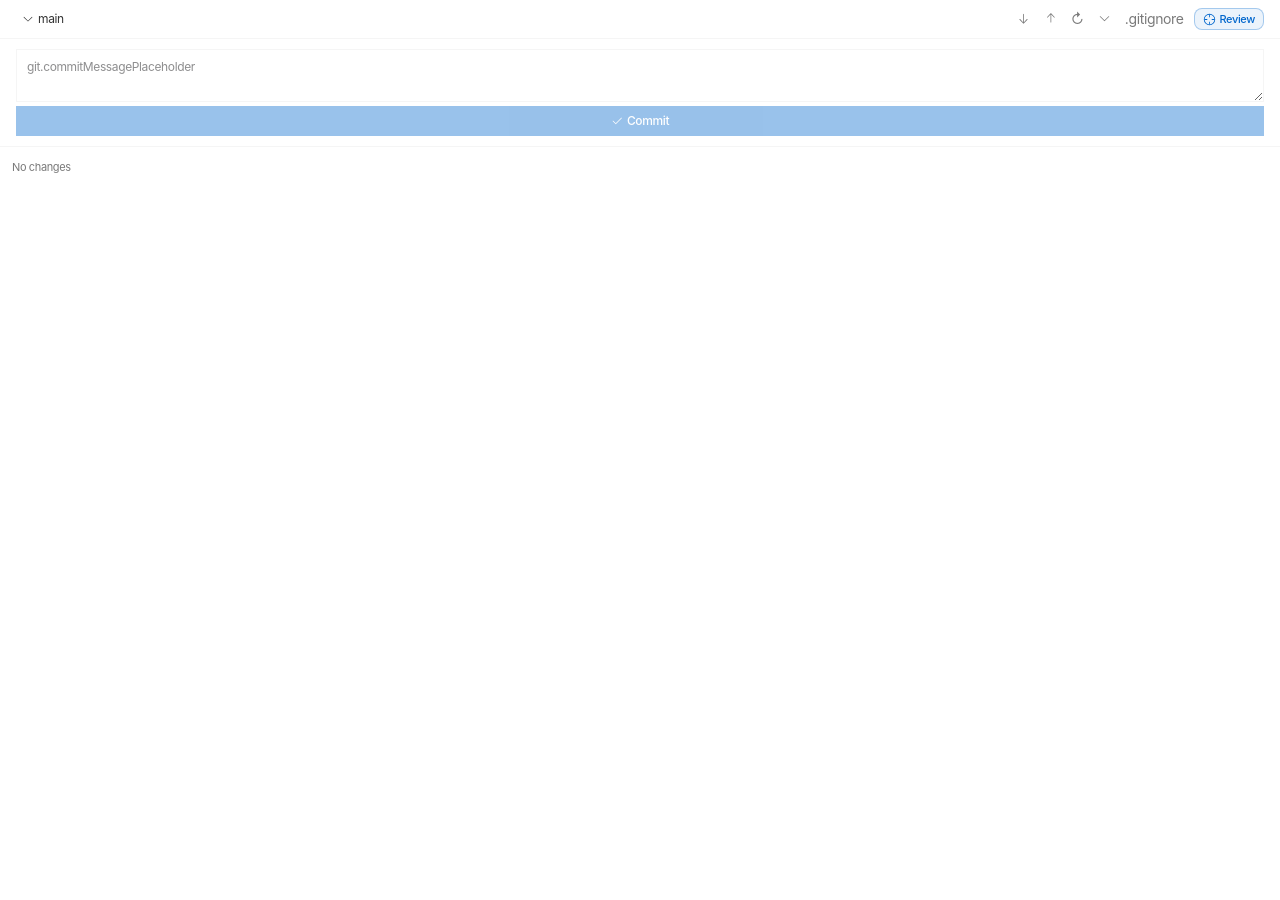
it: GitPanel › 点击审查按钮打开模态框并触发 runReview
Click the button with class "git-panel__review-btn": coordinates (1229, 19) left=1194, top=8, right=1264, bottom=30
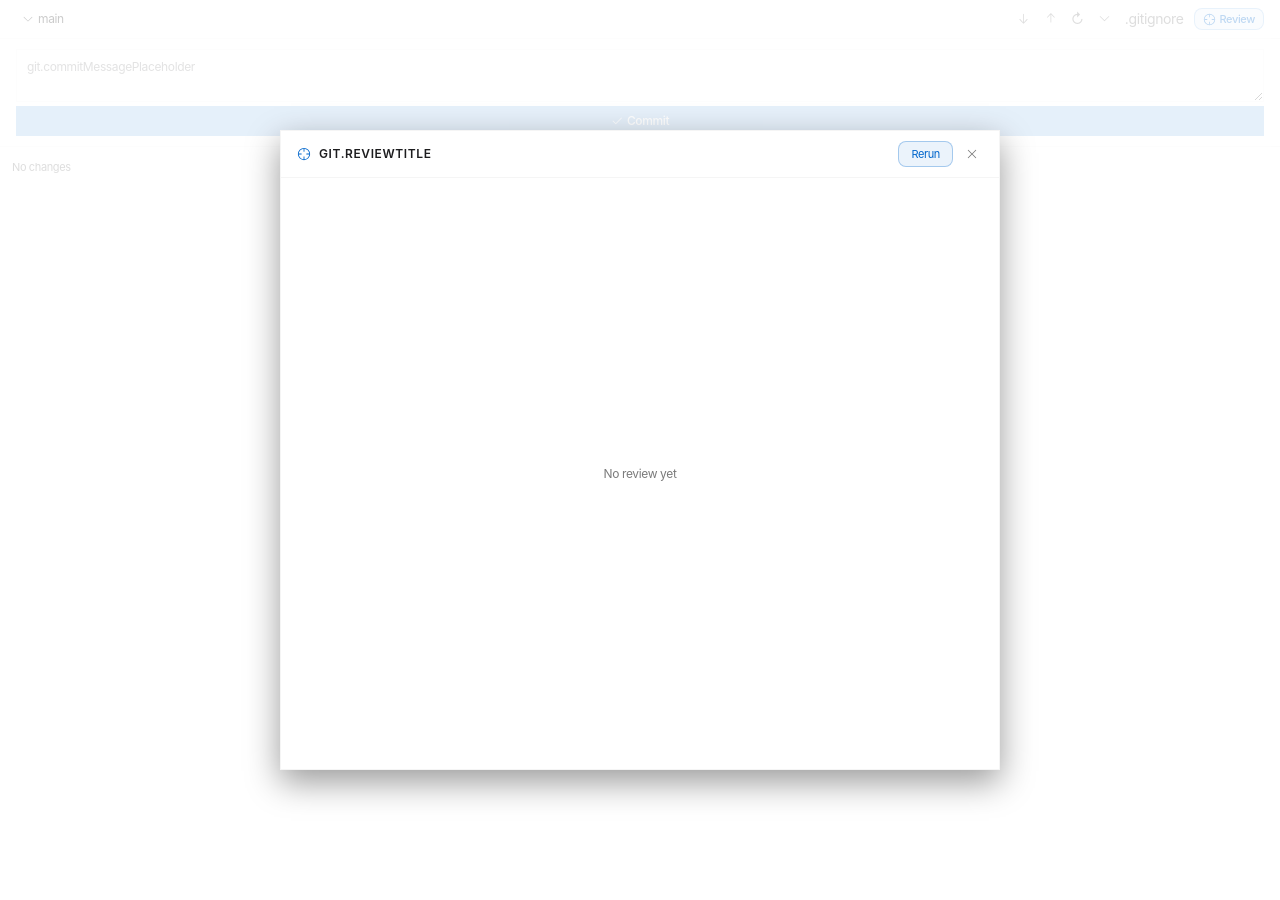
Now the element with class "review-modal" is shown, box left=280, top=130, right=1000, bottom=770
